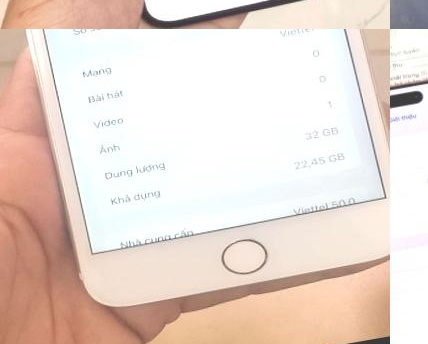scratch: (390, 0, 428, 29)
